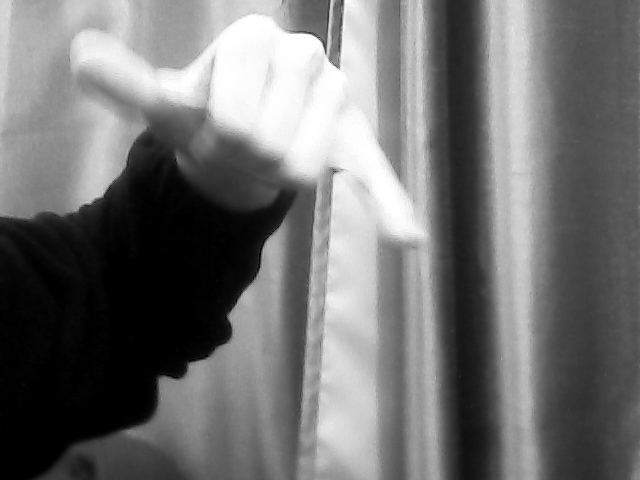aloha: (59, 13, 431, 256)
